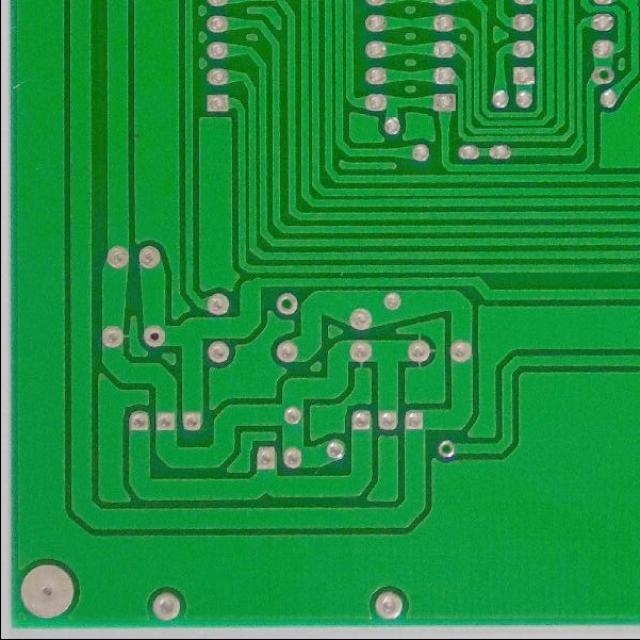missing_hole: (270, 288, 302, 324), (430, 438, 458, 465), (589, 64, 616, 90)
